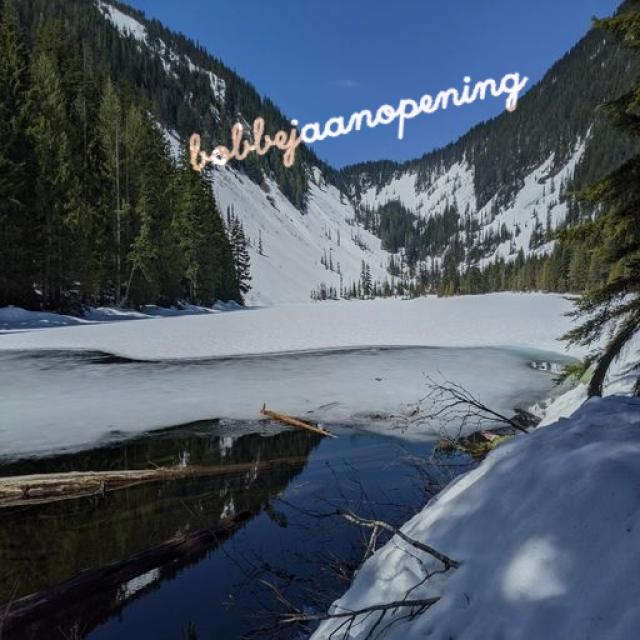watermark: (182, 50, 528, 178)
